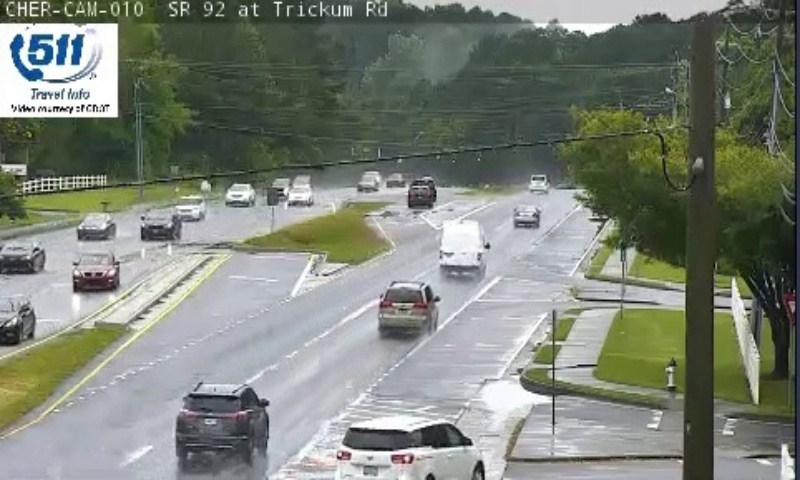car: (177, 384, 270, 451), (378, 283, 434, 332), (514, 203, 541, 225)
van: (439, 220, 484, 274)
